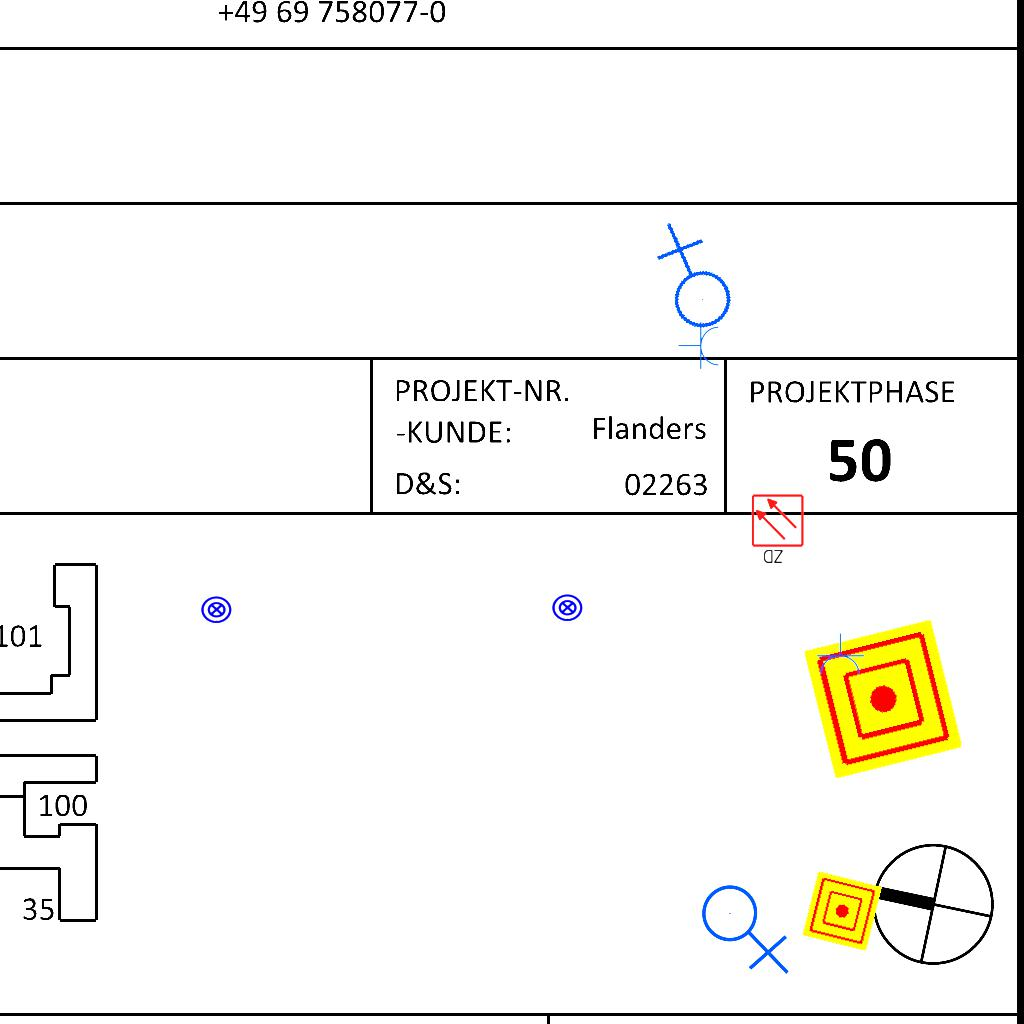Elektroanschluss_allgemein_230V_Geraeteanschlussdose_230V: (629, 219, 752, 345), (700, 876, 794, 975)
NAM-Nichtautomatischer_Melder: (802, 618, 964, 780), (801, 870, 883, 952)
Schukosteckdose_einfach: (678, 321, 721, 371), (815, 633, 865, 676)
Taster_beleuchtet: (551, 591, 584, 624), (200, 593, 233, 626)
ZD_Melder_in_Zwischendecke_mit_Revisionsoeffnung_mind_40_x_40_cm: (750, 493, 807, 567)
